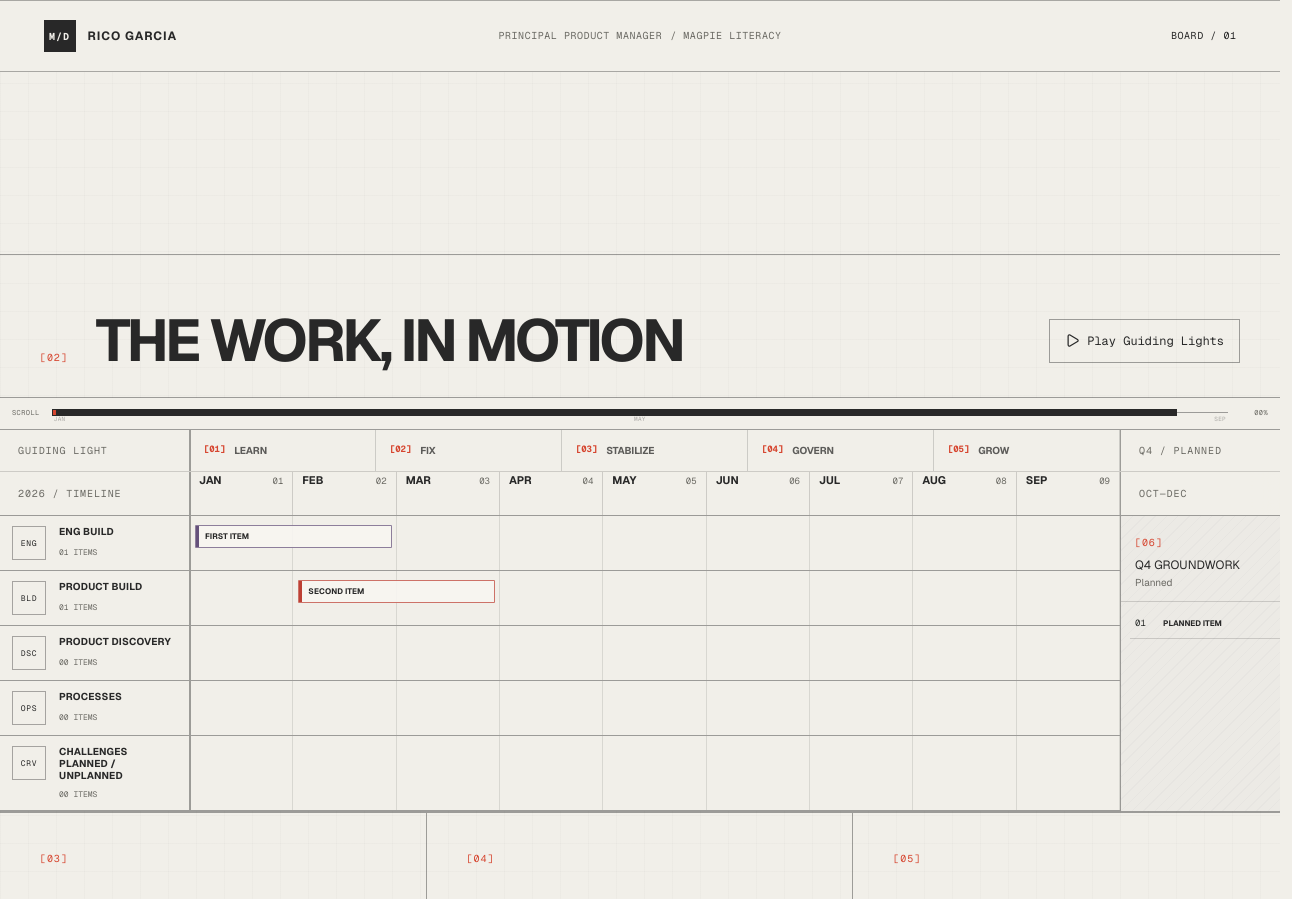
it: PublicTimeline Guiding Light narrative › uses saved owner narrative language and retains defaults for principles without an override
(page scrolled)
Click the button "[01] Learn" at x=283, y=450, box [190,430,376,471]
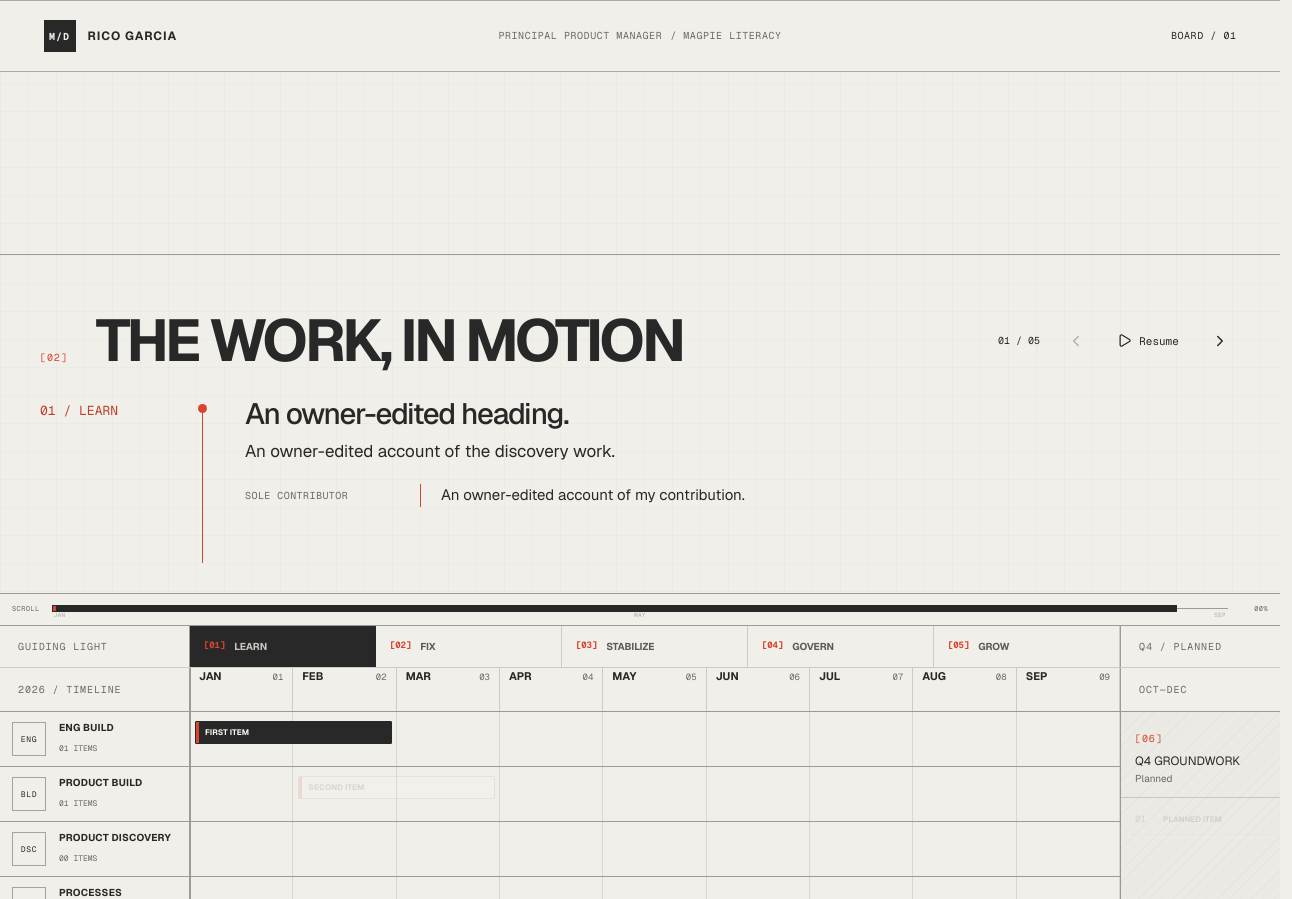
Expected: the heading "An owner-edited heading." is shown, [245,397,568,433]
Expected: the text "An owner-edited account of the discovery work." is shown, [245,440,615,462]
Expected: the text "An owner-edited account of my contribution." is shown, [420,484,1116,506]
Click the button "[02] Fix" at x=469, y=646, box [376,626,562,667]
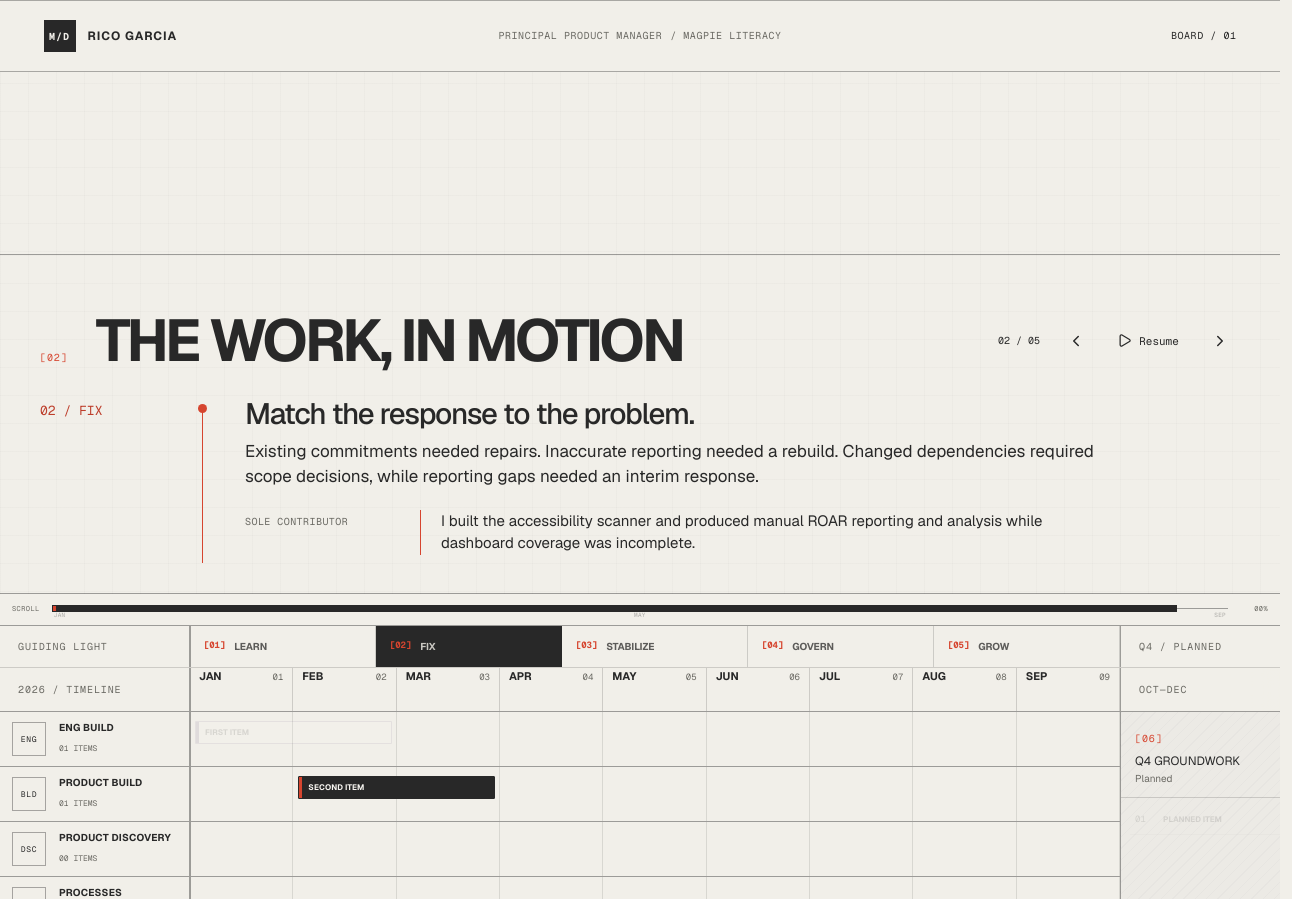
Expected: the heading "Match the response to the problem." is shown, [245,397,694,433]
